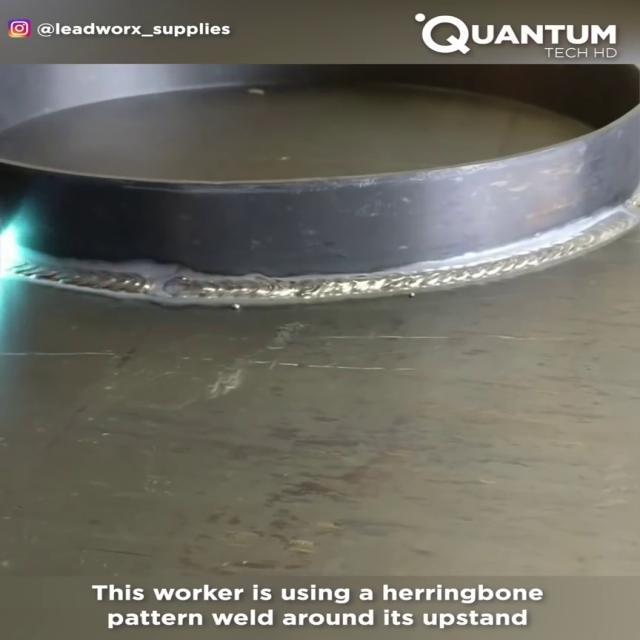Good Welding: (7, 198, 635, 314)
